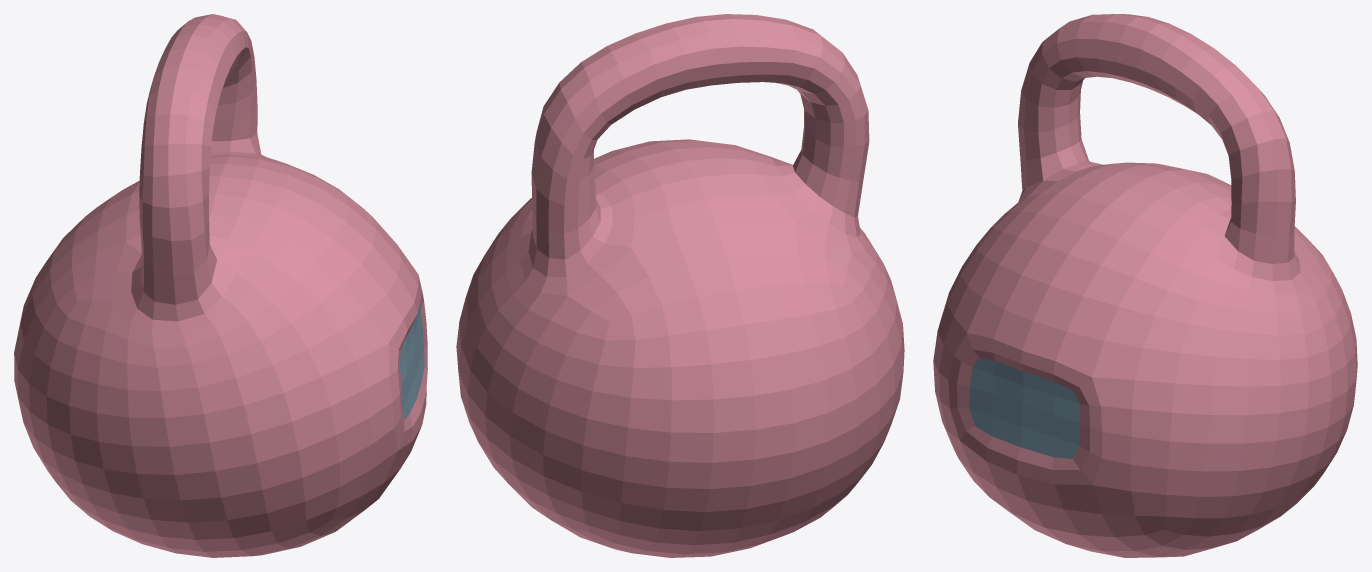
The model's file is Gym_Weight.fbx.
3 views of the same model, side by side, from view 1: azimuth 30°, elevation 25°; view 2: azimuth 150°, elevation 25°; view 3: azimuth 270°, elevation 25° (orthographic). The views are drawn at different scales.
Visible parts, largest first — view 1: Gym_Weight; view 2: Gym_Weight; view 3: Gym_Weight.
Part boxes in pixels (x1,y1,x2,y2): Gym_Weight: (14, 14, 427, 557); Gym_Weight: (456, 14, 904, 557); Gym_Weight: (933, 14, 1357, 557).
Bounding box in the file's own units: 36.01 × 46.78 × 36.06.
